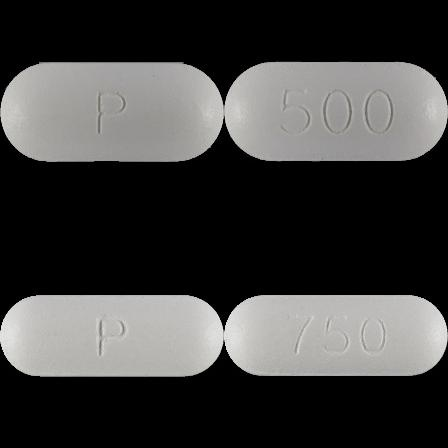16571-412: (0, 0, 224, 224)
